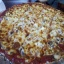pizza: (1, 4, 64, 64)
